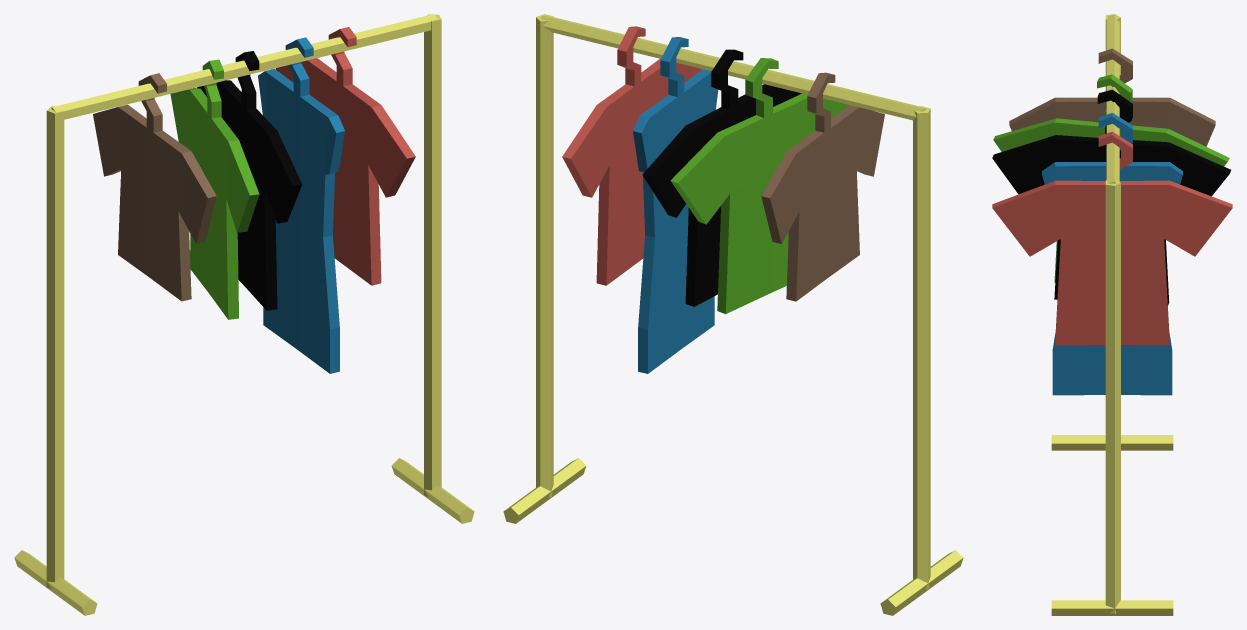
The model's file is cloth.fbx.
3 views of the same model, side by side, from view 1: azimuth 30°, elevation 25°; view 2: azimuth 150°, elevation 25°; view 3: azimuth 270°, elevation 25° (orthographic). The views are drawn at different scales.
Parts seen in each view (by area): view 1: cloth; view 2: cloth; view 3: cloth.
Boxes of the visible parts, x1,y1,x2,y2 form: cloth: (14, 14, 474, 615); cloth: (503, 14, 963, 615); cloth: (992, 14, 1232, 615).
Size of the model in its own units: 442 by 529 by 261.
